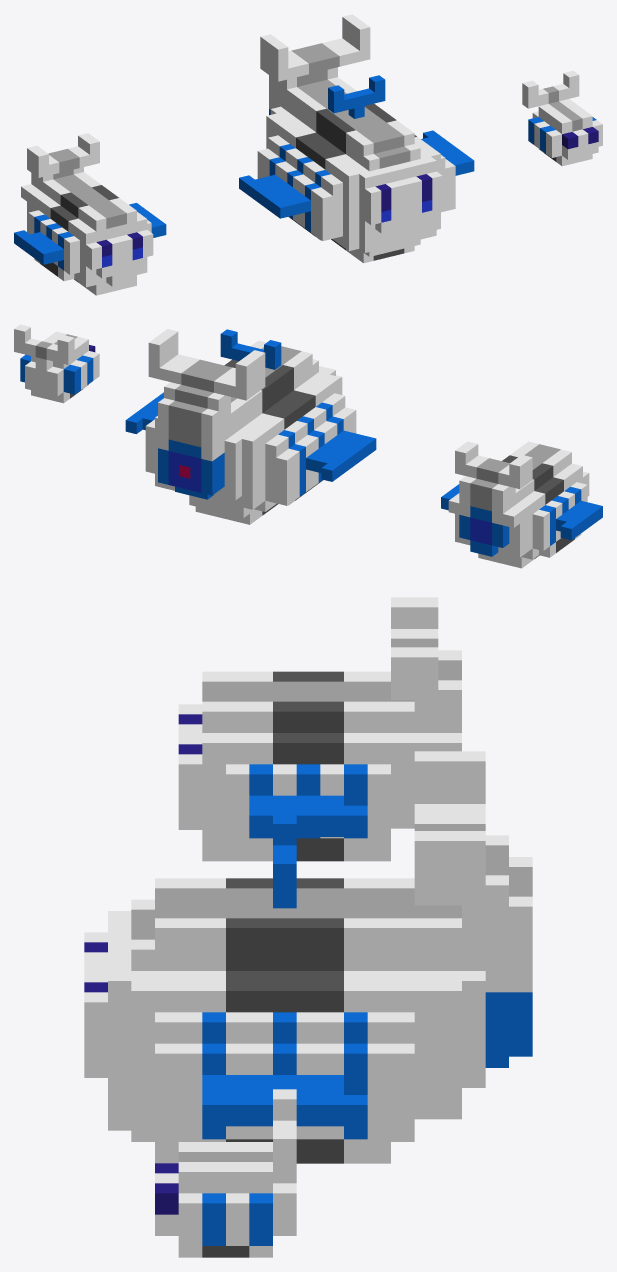
Rendered from spaceships.dae.
The picture shows the model from 3 angles, top to bottom: view 1: azimuth 30°, elevation 25°; view 2: azimuth 150°, elevation 25°; view 3: azimuth 270°, elevation 25°; orthographic projection. The views are drawn at different scales.
Visible parts, largest first — view 1: spaceship_1, spaceship, spaceship_2; view 2: spaceship_1, spaceship, spaceship_2; view 3: spaceship_1, spaceship, spaceship_2.
Boxes of the visible parts, <box> form: spaceship_1: <box>239,14,474,263</box>; spaceship: <box>14,133,166,295</box>; spaceship_2: <box>522,70,602,166</box>; spaceship_1: <box>125,329,376,524</box>; spaceship: <box>441,441,602,568</box>; spaceship_2: <box>14,324,99,403</box>; spaceship_1: <box>84,751,532,1163</box>; spaceship: <box>178,597,461,861</box>; spaceship_2: <box>155,1089,296,1257</box>.
Size of the model in its own units: 53 by 16 by 19.
